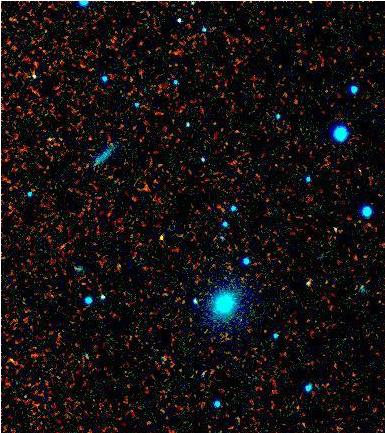star: (140, 224, 170, 254)
